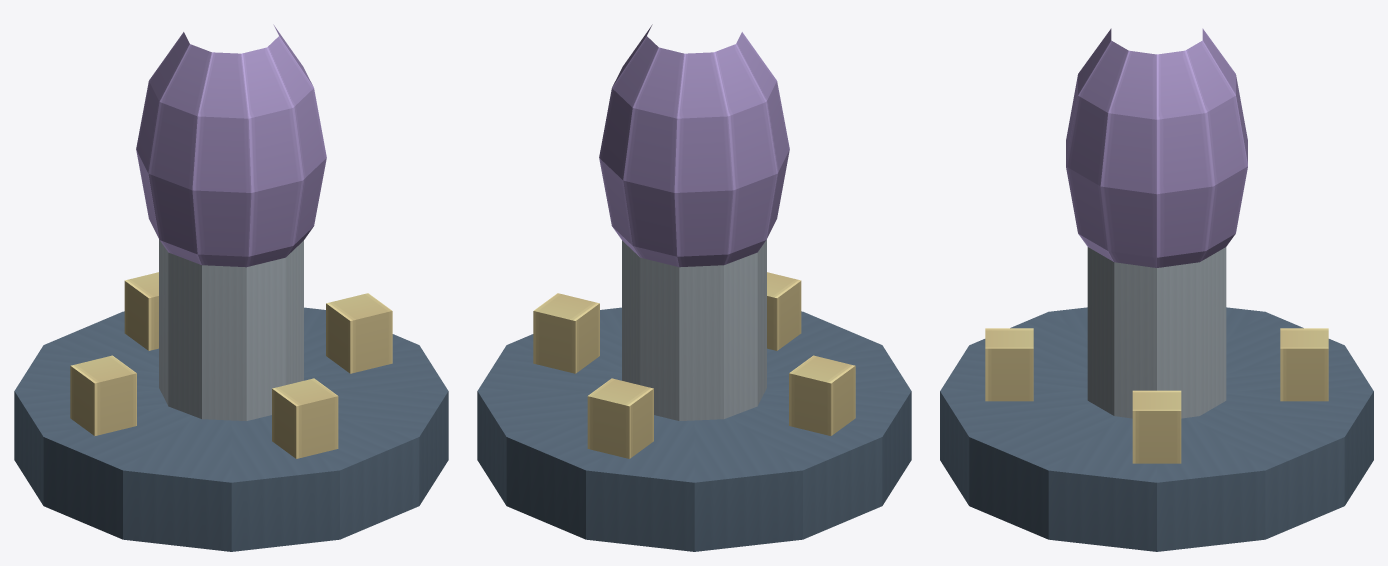
Rendered from quest_terminal.glb.
3 renders of one model, left to right at view 1: azimuth 30°, elevation 25°; view 2: azimuth 150°, elevation 25°; view 3: azimuth 270°, elevation 25°, orthographic.
Parts seen in each view (by area): view 1: quest_terminal; view 2: quest_terminal; view 3: quest_terminal.
Part boxes in pixels (x1=…): quest_terminal: x1=14, y1=24, x2=448, y2=551; quest_terminal: x1=477, y1=24, x2=911, y2=551; quest_terminal: x1=940, y1=28, x2=1373, y2=551.
Bounding box in the file's own units: 2.5 × 2.83 × 2.5.
1 material, 1 textured.
